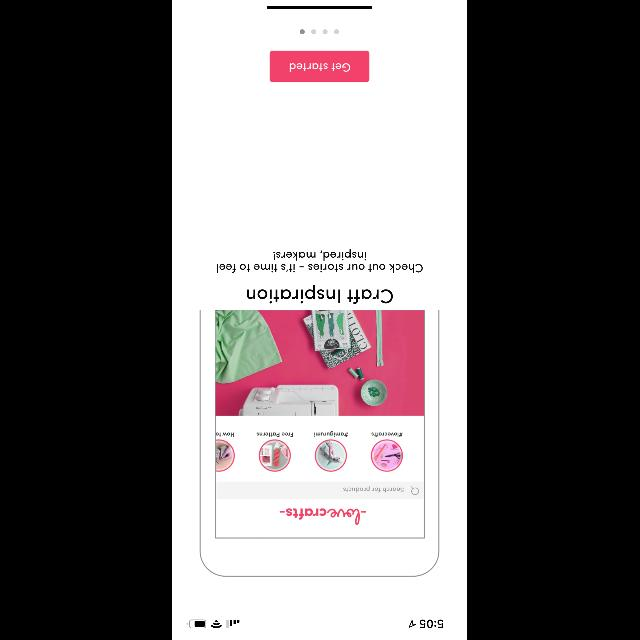image: (200, 310, 440, 578)
pageindicator: (300, 30, 340, 34)
text: (217, 249, 423, 273), (247, 286, 393, 304)
textbutton: (270, 52, 370, 82)
uppertaskbar: (188, 620, 444, 628)
